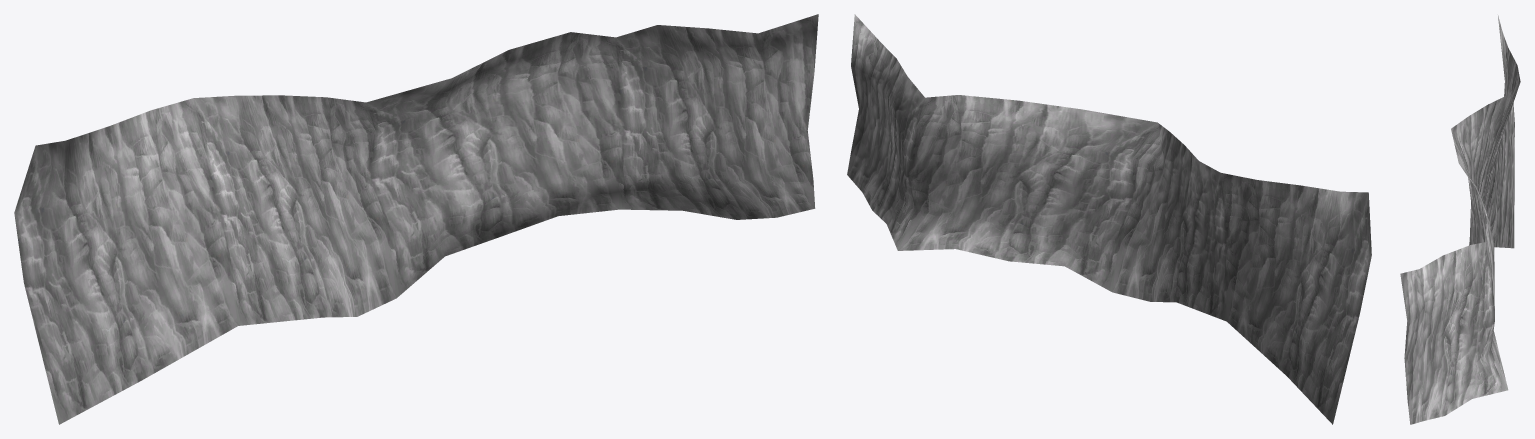
The model's file is SWORDLIGHT20_PS-AREA03_160.fbx.
3 views of the same model, side by side, from view 1: azimuth 30°, elevation 25°; view 2: azimuth 150°, elevation 25°; view 3: azimuth 270°, elevation 25° (orthographic). The views are drawn at different scales.
Visible parts, largest first — view 1: SWORDLIGHT20_PS-AREA03_160; view 2: SWORDLIGHT20_PS-AREA03_160; view 3: SWORDLIGHT20_PS-AREA03_160.
Boxes of the visible parts, bbox=[...] form: SWORDLIGHT20_PS-AREA03_160: bbox=[14, 14, 818, 424]; SWORDLIGHT20_PS-AREA03_160: bbox=[847, 14, 1371, 424]; SWORDLIGHT20_PS-AREA03_160: bbox=[1400, 15, 1520, 424].
Size of the model in its own units: 180769 by 70564 by 34231.
Materials: 1 (1 with a texture image).
